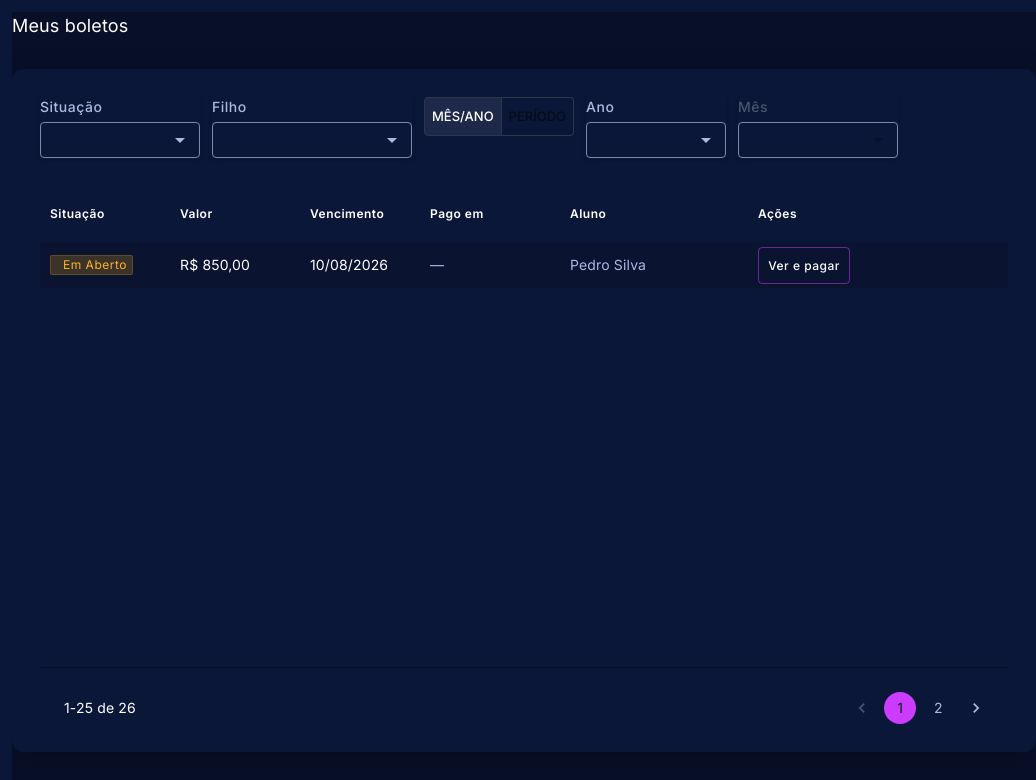
Test: MyCharges › requests the next page of boletos
This screenshot has width=1036, height=780.
Expected: the text "R$ 850,00" is shown, top-left (180, 255), bottom-right (250, 275)
Step 1. Click the button named "Go to page 2" → {"x": 938, "y": 708}, box top-left (922, 692), bottom-right (954, 724)
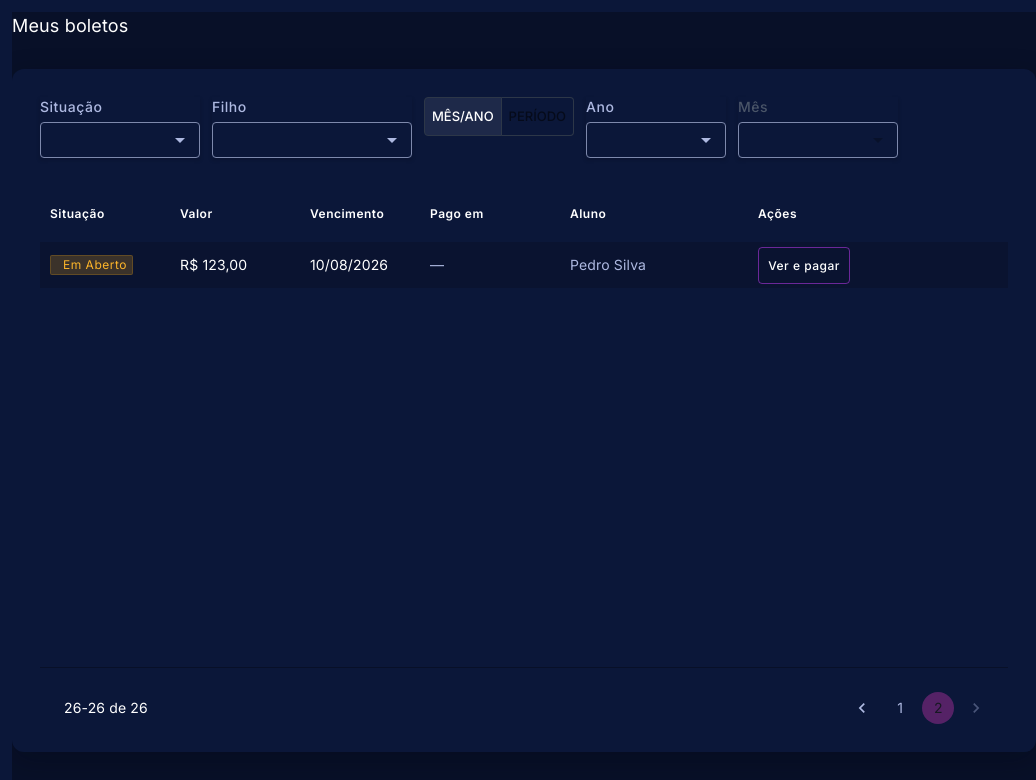
Now the text "R$ 123,00" is shown, box top-left (180, 255), bottom-right (247, 275)
